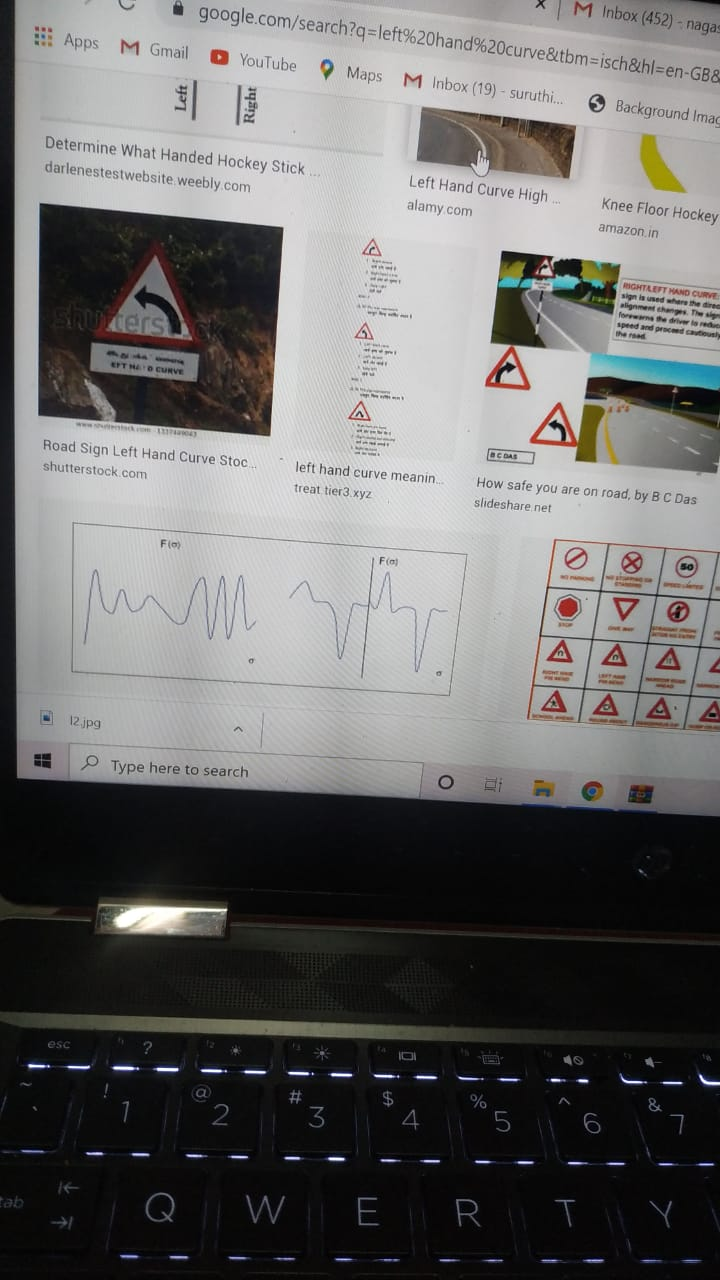LEFT CURVE: (93, 244, 247, 364), (532, 402, 590, 457), (347, 318, 382, 340)
RIGHT CURVE: (475, 327, 540, 396), (356, 217, 398, 264)
